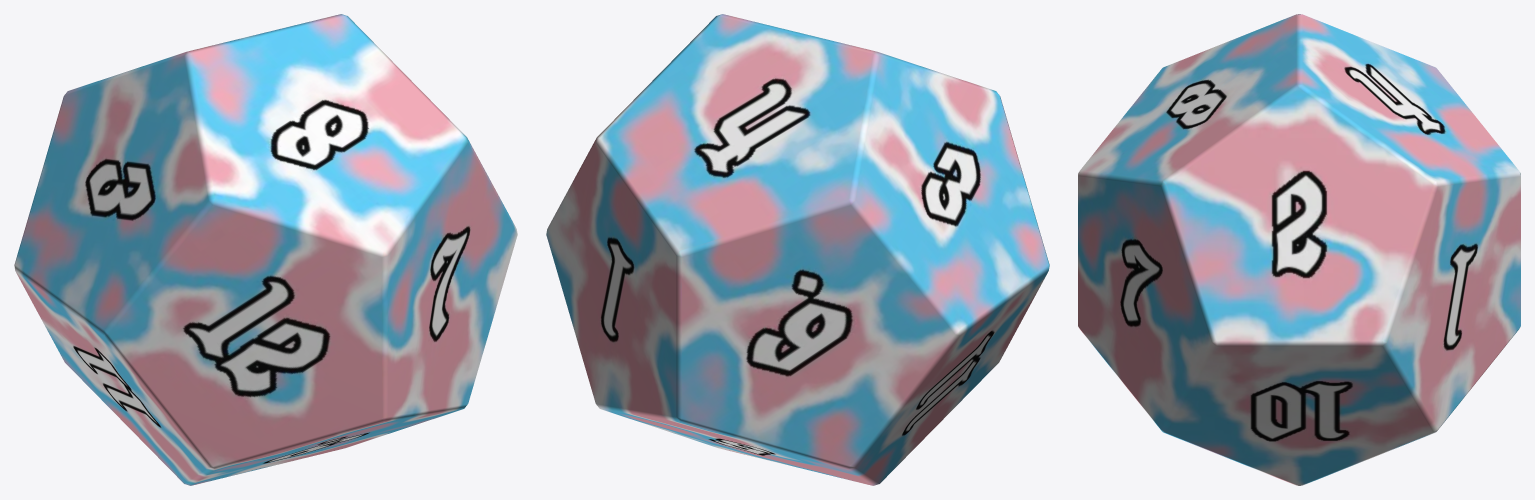
The picture shows the model from 3 angles, left to right: view 1: azimuth 30°, elevation 25°; view 2: azimuth 150°, elevation 25°; view 3: azimuth 270°, elevation 25°; orthographic projection. The views are drawn at different scales.
Parts seen in each view (by area): view 1: D12; view 2: D12; view 3: D12.
Part boxes in pixels (box(x1,y1,x2,y2)): D12: box(14, 14, 517, 485); D12: box(546, 14, 1049, 485); D12: box(1078, 14, 1520, 485).
Bounding box in the file's own units: 167 × 167 × 167.
Materials: 1 (1 with a texture image).
